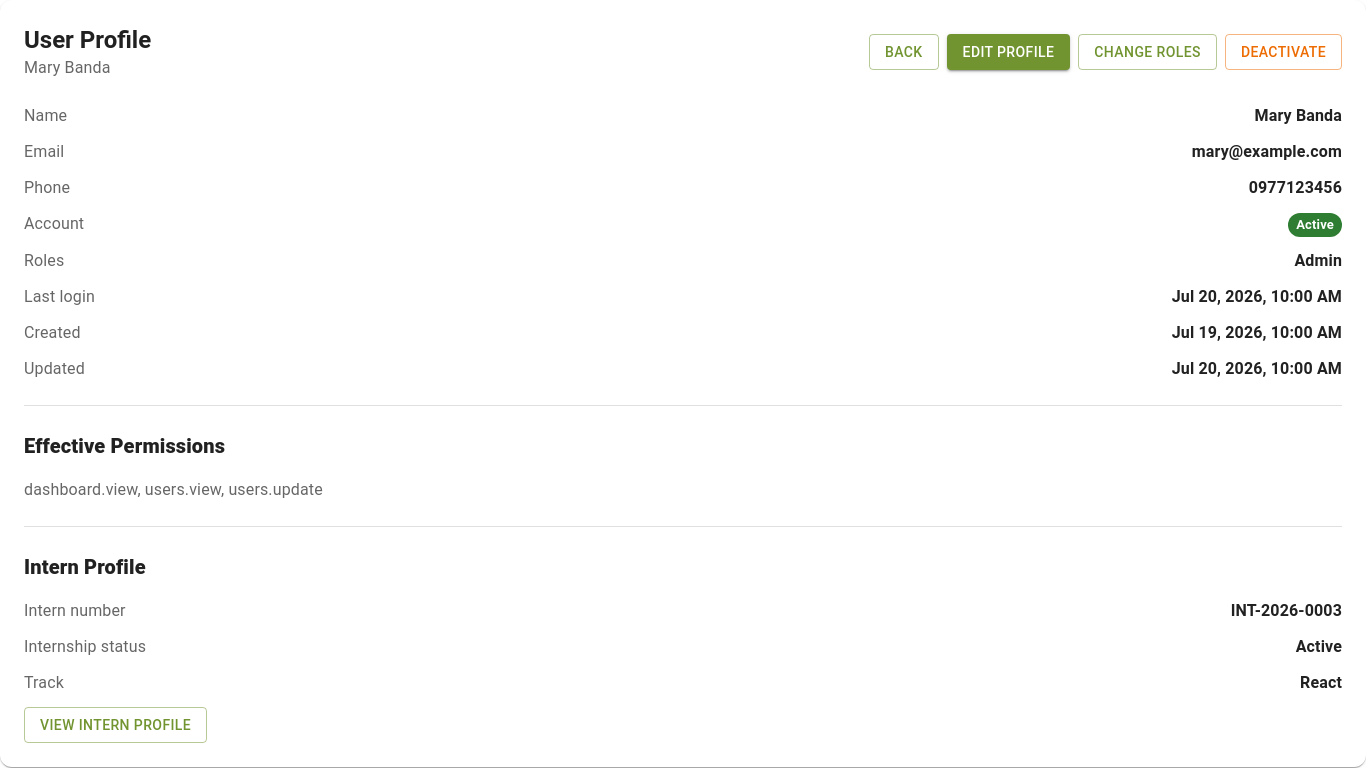
it: Phase 2 user pages › role synchronization sends lowercase roles and displays final-admin conflicts
Click the button "Change Roles" at (1148, 52), box [1078,34,1217,70]
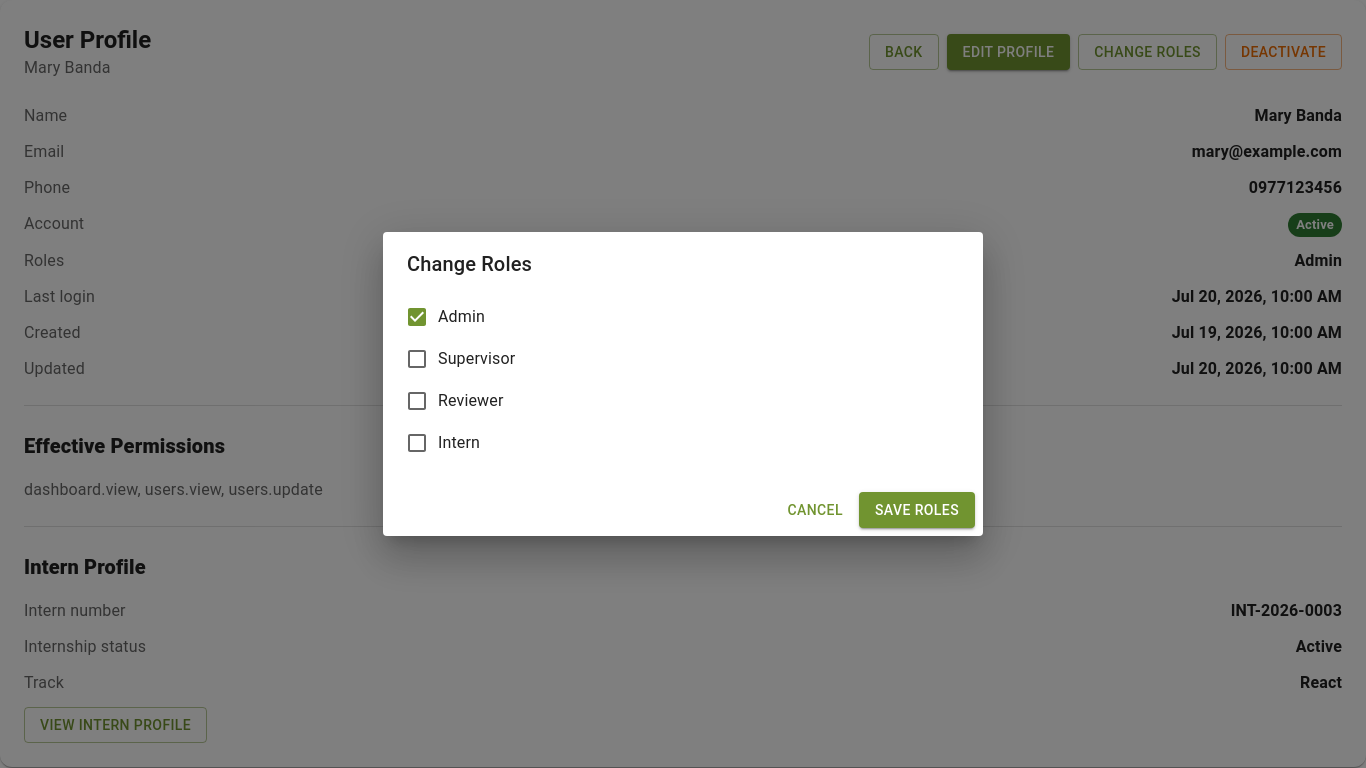
Click the checkbox labelled "Admin" at (445, 317), box [405,305,485,329]
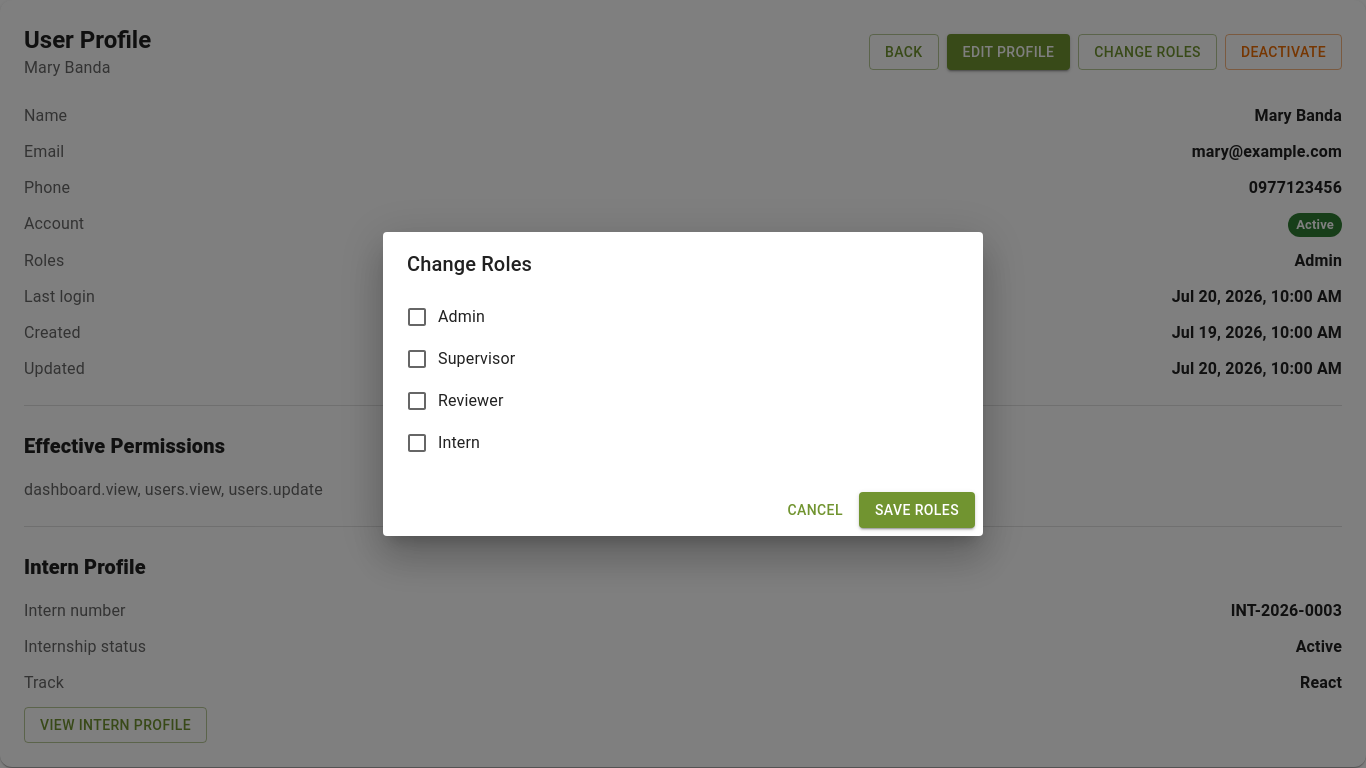
Click the checkbox labelled "Supervisor" at (460, 359), box [405,347,515,371]
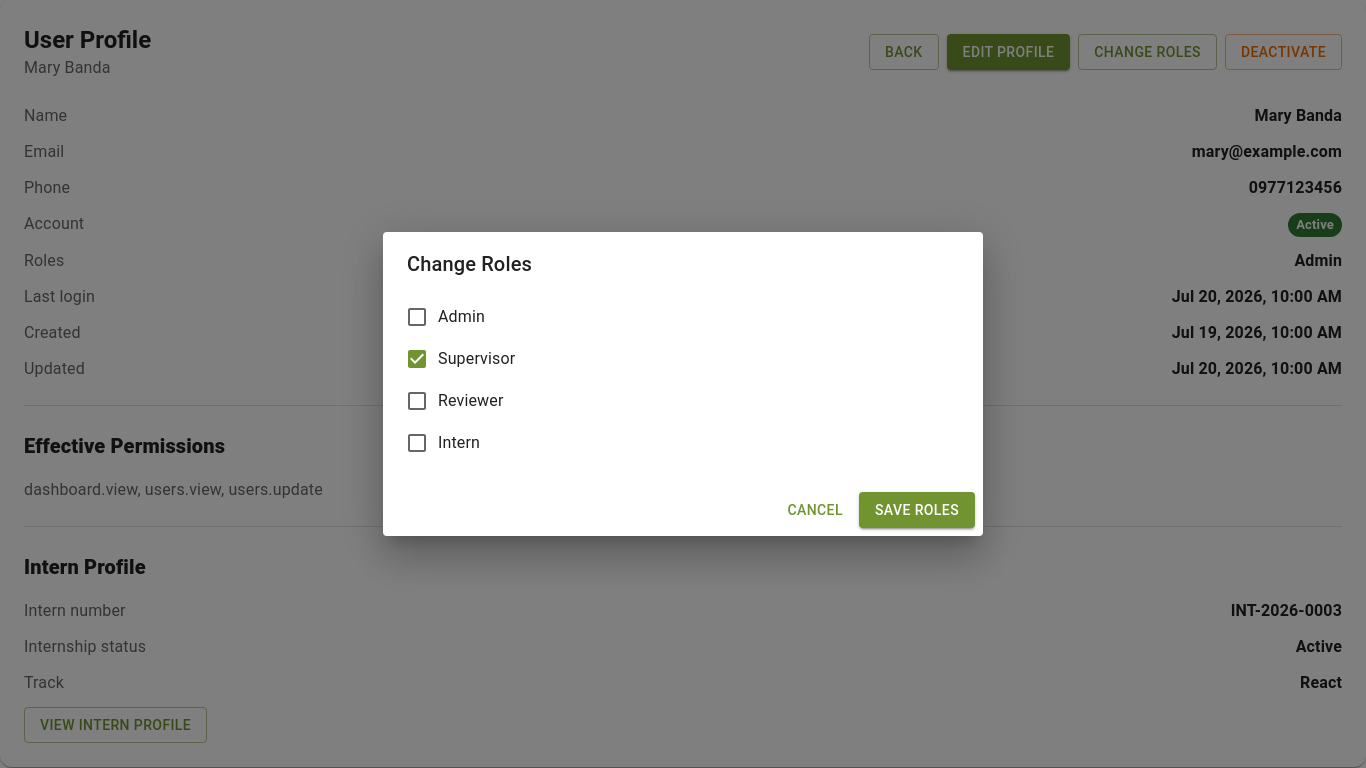
Click the button "Save Roles" at (917, 510), box [859,492,975,528]
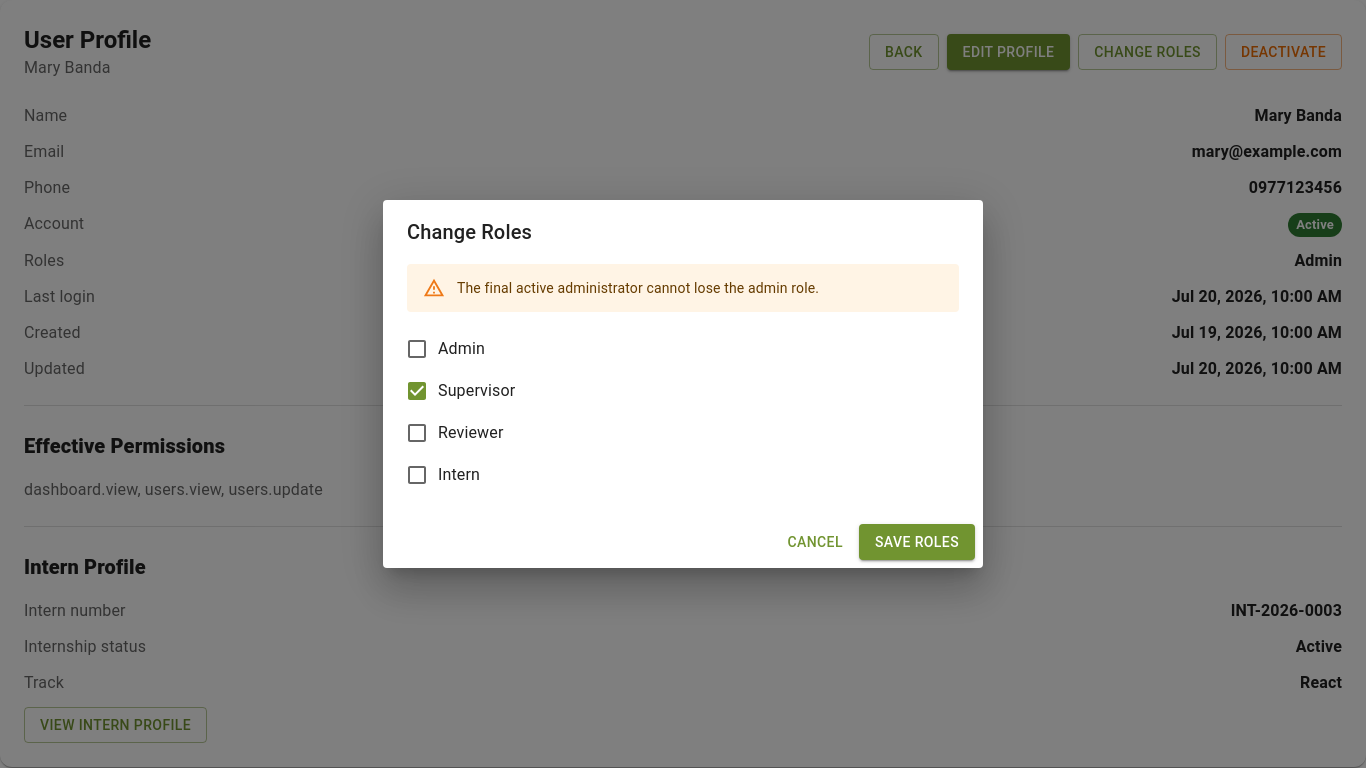
Check: the text "The final active administrator cannot lose the admin role." is shown, box [457,280,819,296]
